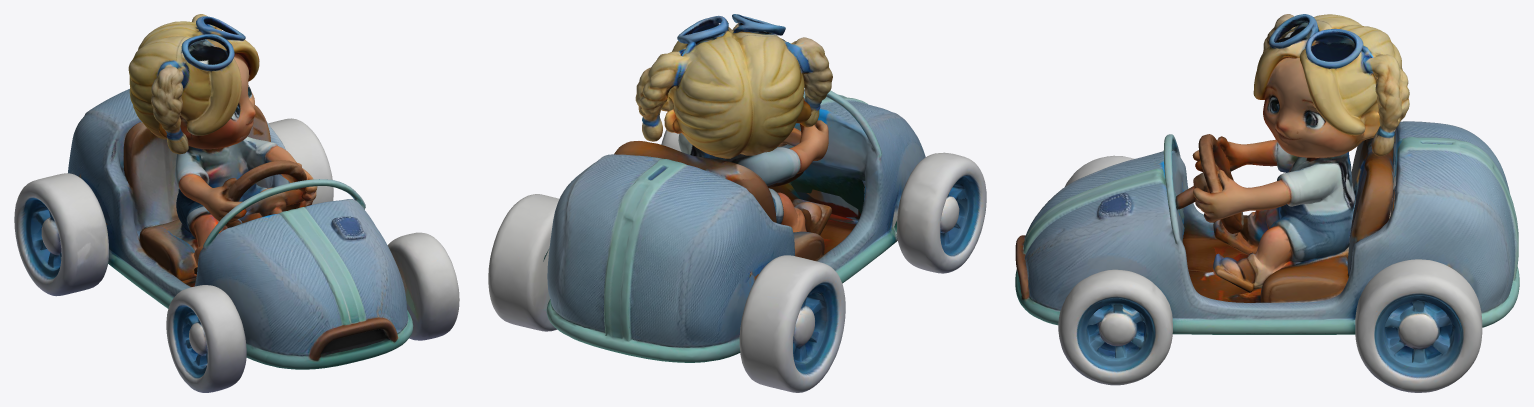
The model's file is kristen_racer.glb.
3 renders of one model, left to right at view 1: azimuth 30°, elevation 25°; view 2: azimuth 150°, elevation 25°; view 3: azimuth 270°, elevation 25°, orthographic. The views are drawn at different scales.
Visible parts, largest first — view 1: tripo_node_aae56933.001; view 2: tripo_node_aae56933.001; view 3: tripo_node_aae56933.001.
Boxes of the visible parts, <box> form: tripo_node_aae56933.001: <box>14,14,459,392</box>; tripo_node_aae56933.001: <box>488,14,986,392</box>; tripo_node_aae56933.001: <box>1015,14,1519,392</box>.
Bounding box in the file's own units: 0.6705 × 0.6379 × 0.9999.
Materials: 1 (1 with a texture image).
